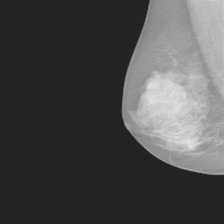Mass_1: (128, 99, 197, 157)
